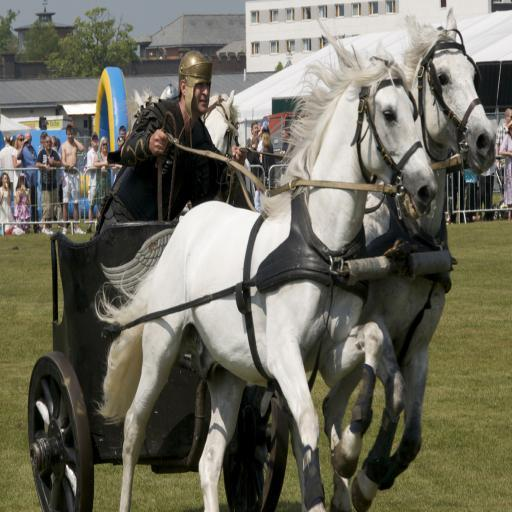horse: (100, 14, 438, 512), (276, 2, 498, 512)
